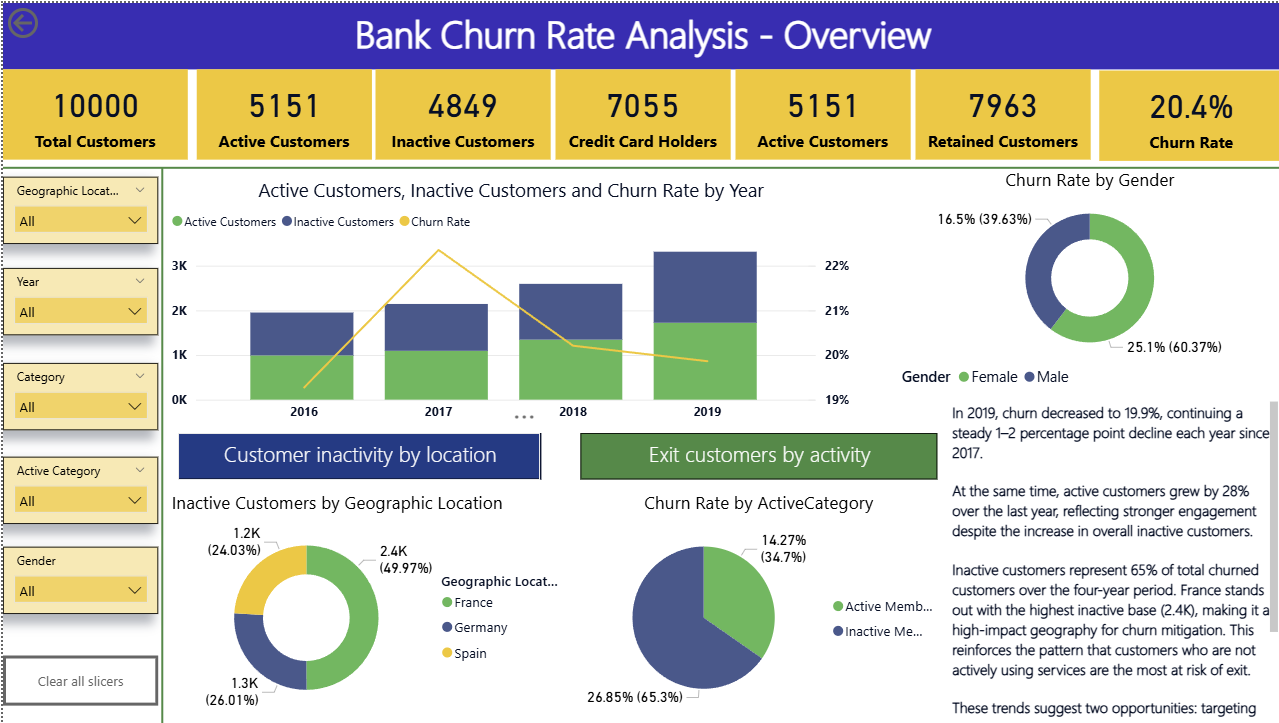

Layout of this report page (visuals, bound fields, positions):
{"tool":"powerbi","page":{"name":"Overview","canvas":[1280,720],"ordinal":0},"visuals":[{"type":"textbox","box":[0,0,1280.3,66],"z":0},{"type":"card","fields":{"Values":["Calculations.Total Customers"]},"box":[0,66,184.6,90],"z":1000},{"type":"actionButton","box":[0,0,100,40],"z":2000},{"type":"card","fields":{"Values":["Calculations.Active Customers"]},"box":[193.2,66,174.9,90.5],"z":3000},{"type":"card","fields":{"Values":["Calculations.Credit Card Holders"]},"box":[552.7,66,174.9,90.5],"z":4000},{"type":"card","fields":{"Values":["Calculations.Inactive Customers"]},"box":[373,66,174.9,90.5],"z":5000},{"type":"card","fields":{"Values":["Calculations.Retained Customers"]},"box":[912.2,66,174.9,90.5],"z":6000},{"type":"card","fields":{"Values":["Calculations.Churn Rate"]},"box":[1095.7,67.3,184.6,90],"z":7000},{"type":"slicer","fields":{"Values":["ActiveCustomer.ActiveCategory"]},"box":[0,453.7,155.3,67.3],"z":8000},{"type":"slicer","title":"Credit Card","fields":{"Values":["Credit_Card.Category"]},"box":[0,359.5,155.3,67.3],"z":9000},{"type":"slicer","fields":{"Values":["Geography.GeographyLocation"]},"box":[0,173.6,155.3,67.3],"z":10000},{"type":"slicer","fields":{"Values":["Date.Year"]},"box":[0,265.4,155.3,67.3],"z":11000},{"type":"lineStackedColumnComboChart","fields":{"Y":["Calculations.Active Customers","Calculations.Inactive Customers"],"Y2":["Calculations.Churn Rate"],"Category":["Date.Year"]},"box":[163.9,173.6,688.5,253.1],"z":13000},{"type":"donutChart","title":"Inactive Customers by Geographic Location","fields":{"Y":["Calculations.Inactive Customers"],"Series":["Geography.GeographyLocation"]},"box":[163.9,487.9,403.5,232.3],"z":14000},{"type":"slicer","fields":{"Values":["Bank_Churn.Gender"]},"box":[0,544.2,155.3,67.3],"z":16000},{"type":"card","fields":{"Values":["Calculations.Active Customers"]},"box":[732.5,66,174.9,90.5],"z":17000},{"type":"shape","box":[0,156.5,1280.3,17.1],"z":18000},{"type":"shape","box":[155.3,165.1,8.6,555.2],"z":20000},{"type":"actionButton","box":[0,653,155.3,50.1],"z":21000},{"type":"pieChart","fields":{"Y":["Calculations.Churn Rate"],"Series":["ActiveCustomer.ActiveCategory"]},"box":[567.4,487.9,376.6,232.3],"z":21002},{"type":"donutChart","fields":{"Y":["Calculations.Churn Rate"],"Category":["Bank_Churn.Gender"]},"box":[893.9,165.1,386.4,228.7],"z":21003},{"type":"textbox","box":[174.9,430.4,363.2,46.5],"z":21004},{"type":"textbox","box":[577.2,430.4,357.1,46.5],"z":21005},{"type":"textbox","box":[944,393.8,336.3,326.5],"z":21006}]}

Visuals, with their boxes in screenshot pixels (x1, y1, x2, y2), scaled from the page's 1280x720 canvas onto the 1279x723 screenshot:
textbox: {"x1": 0, "y1": 0, "x2": 1278, "y2": 66}
card - Calculations.Total Customers: {"x1": 0, "y1": 66, "x2": 184, "y2": 157}
actionButton: {"x1": 0, "y1": 0, "x2": 100, "y2": 40}
card - Calculations.Active Customers: {"x1": 193, "y1": 66, "x2": 368, "y2": 157}
card - Calculations.Credit Card Holders: {"x1": 552, "y1": 66, "x2": 727, "y2": 157}
card - Calculations.Inactive Customers: {"x1": 373, "y1": 66, "x2": 547, "y2": 157}
card - Calculations.Retained Customers: {"x1": 911, "y1": 66, "x2": 1086, "y2": 157}
card - Calculations.Churn Rate: {"x1": 1095, "y1": 68, "x2": 1278, "y2": 158}
slicer - ActiveCustomer.ActiveCategory: {"x1": 0, "y1": 456, "x2": 155, "y2": 523}
"Credit Card" slicer: {"x1": 0, "y1": 361, "x2": 155, "y2": 429}
slicer - Geography.GeographyLocation: {"x1": 0, "y1": 174, "x2": 155, "y2": 242}
slicer - Date.Year: {"x1": 0, "y1": 267, "x2": 155, "y2": 334}
lineStackedColumnComboChart - Calculations.Active Customers x Calculations.Inactive Customers: {"x1": 164, "y1": 174, "x2": 852, "y2": 428}
"Inactive Customers by Geographic Location" donutChart: {"x1": 164, "y1": 490, "x2": 567, "y2": 722}
slicer - Bank_Churn.Gender: {"x1": 0, "y1": 546, "x2": 155, "y2": 614}
card - Calculations.Active Customers: {"x1": 732, "y1": 66, "x2": 907, "y2": 157}
shape: {"x1": 0, "y1": 157, "x2": 1278, "y2": 174}
shape: {"x1": 155, "y1": 166, "x2": 164, "y2": 722}
actionButton: {"x1": 0, "y1": 656, "x2": 155, "y2": 706}
pieChart - Calculations.Churn Rate x ActiveCustomer.ActiveCategory: {"x1": 567, "y1": 490, "x2": 943, "y2": 722}
donutChart - Calculations.Churn Rate x Bank_Churn.Gender: {"x1": 893, "y1": 166, "x2": 1278, "y2": 395}
textbox: {"x1": 175, "y1": 432, "x2": 538, "y2": 479}
textbox: {"x1": 577, "y1": 432, "x2": 934, "y2": 479}
textbox: {"x1": 943, "y1": 395, "x2": 1278, "y2": 722}
